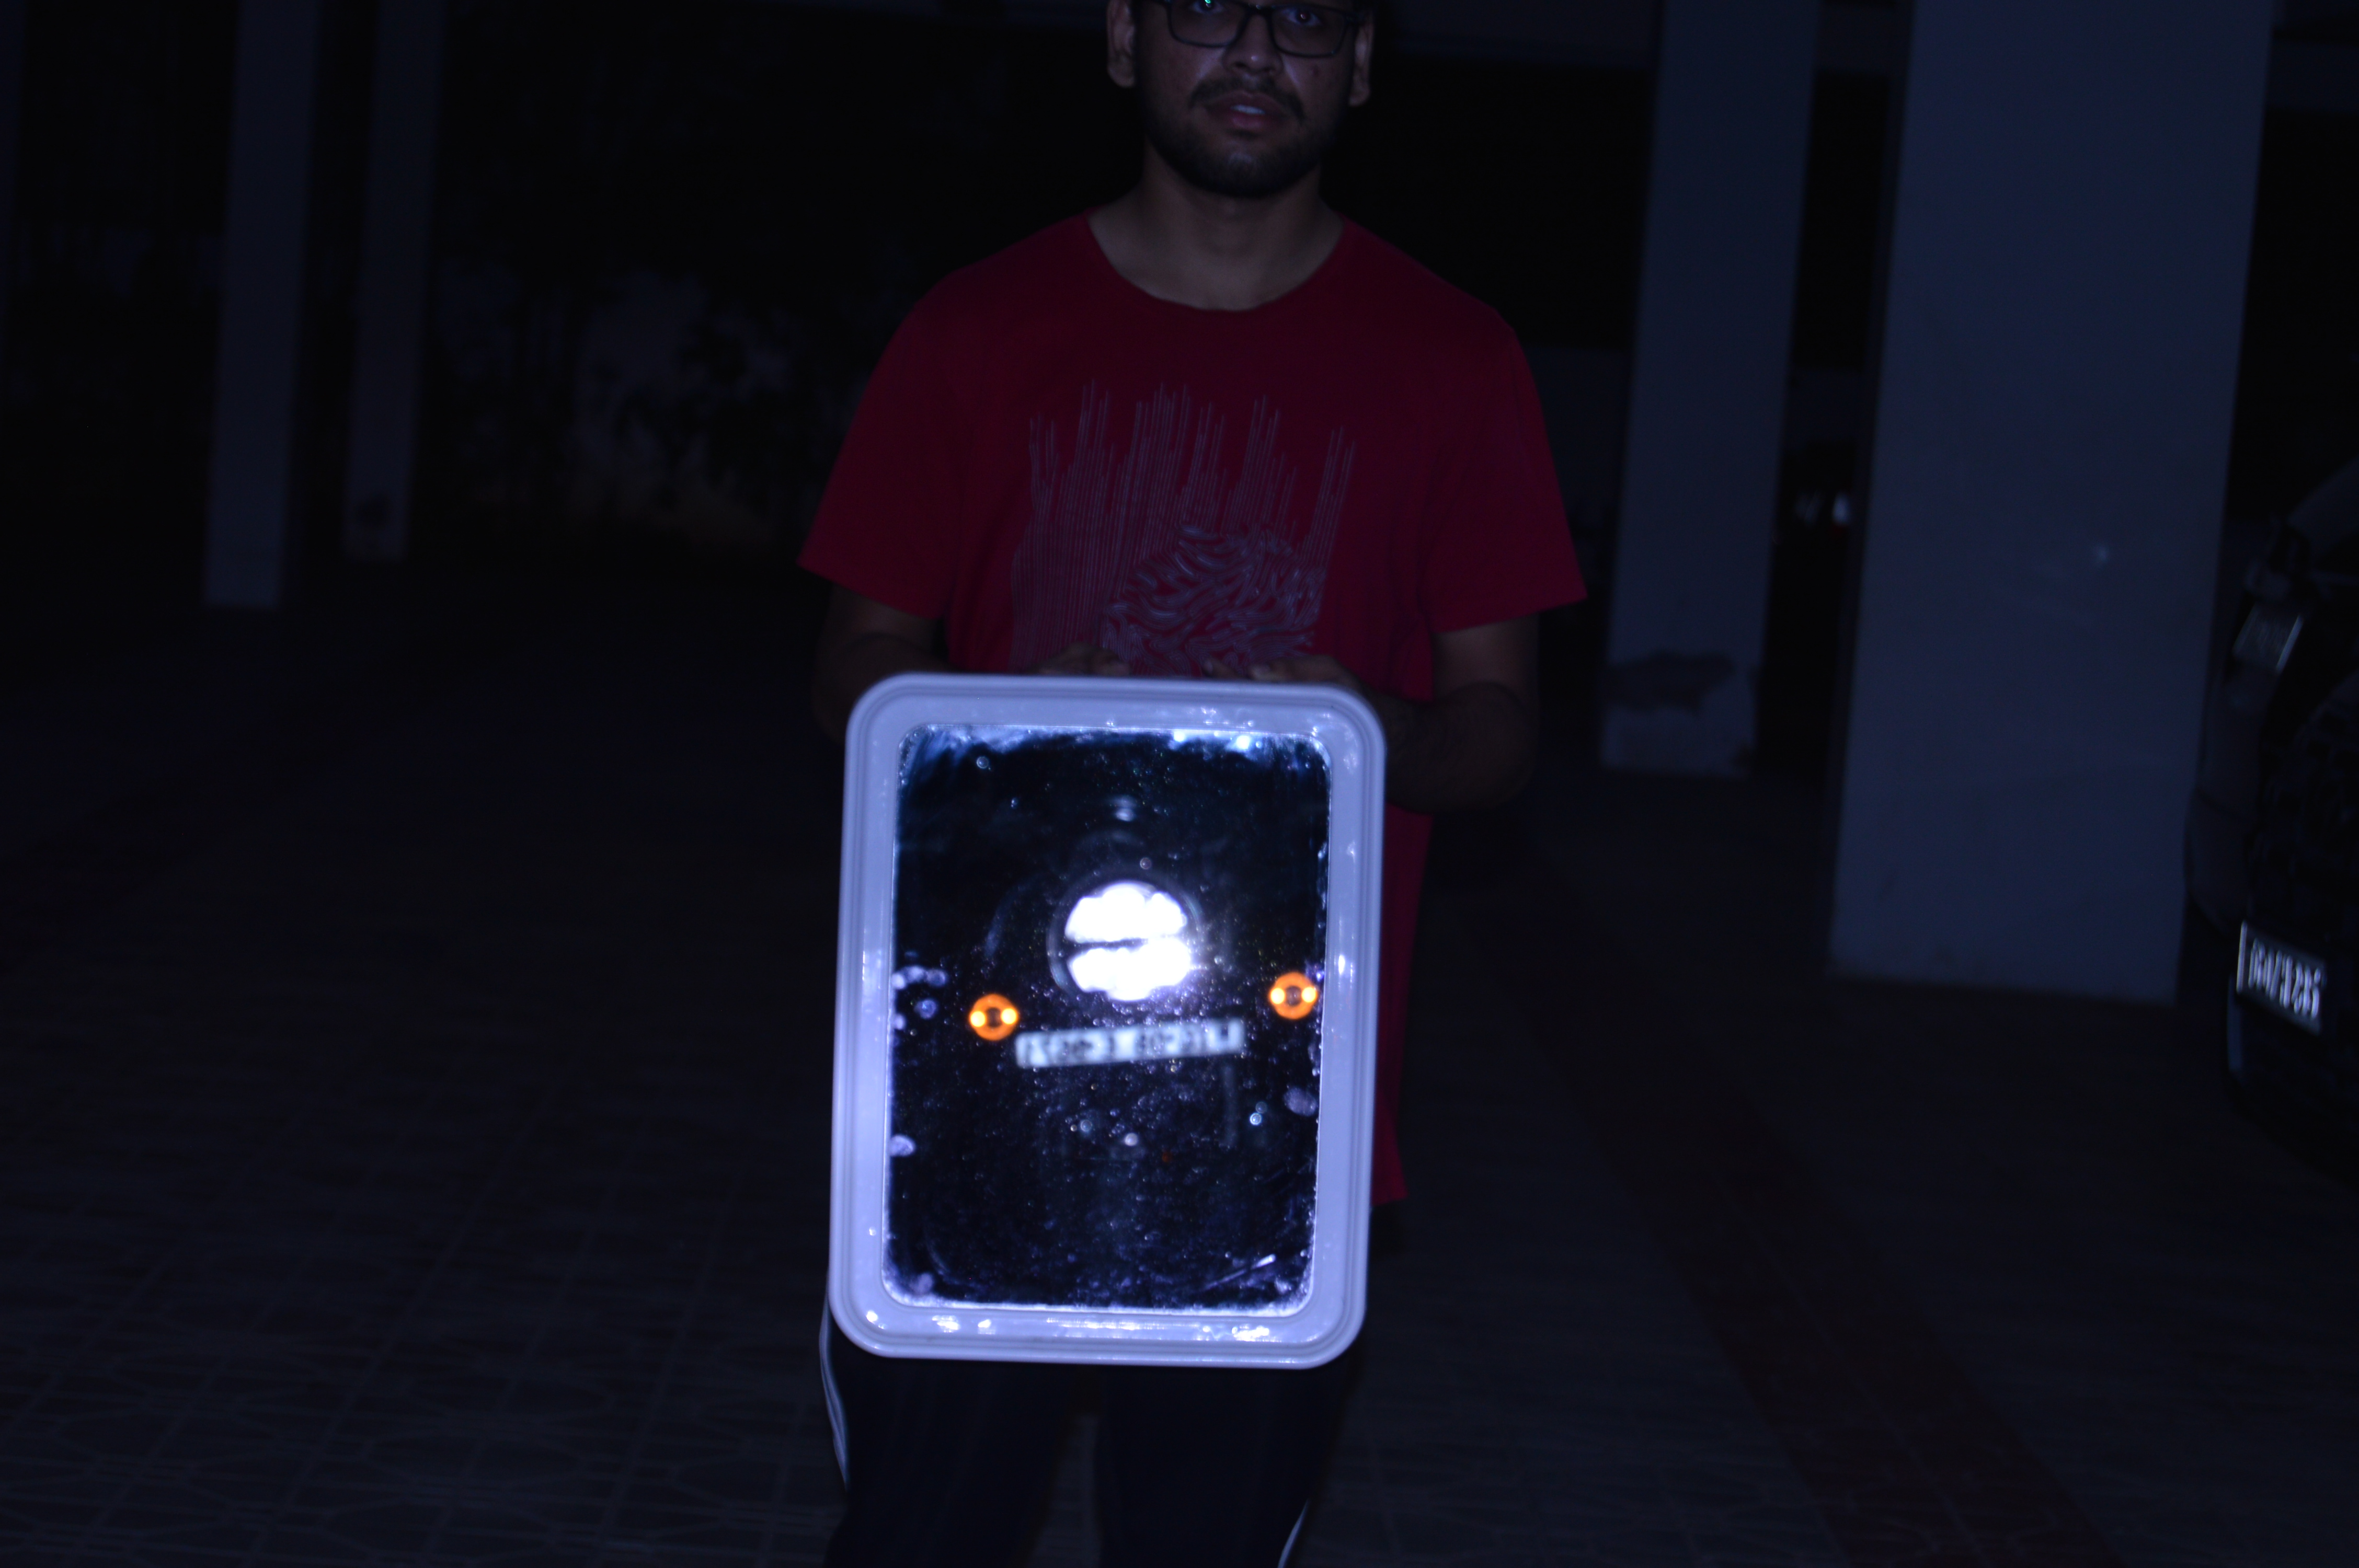Glare: (1064, 885, 1206, 1018)
